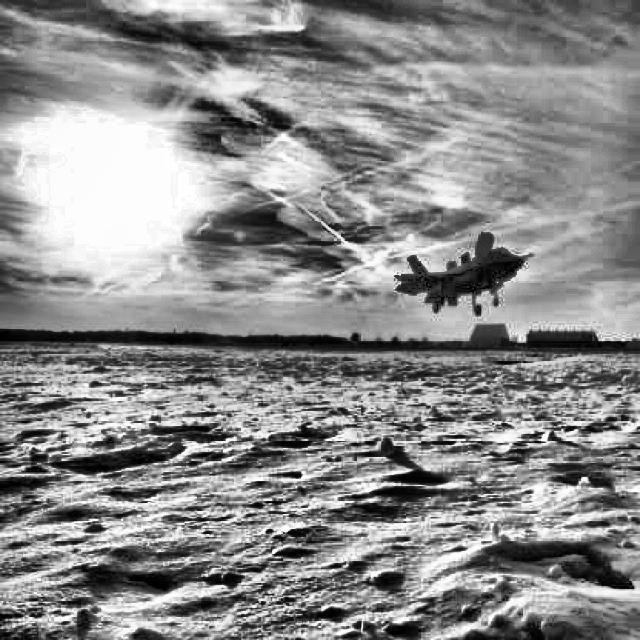F35: (394, 232, 535, 316)
